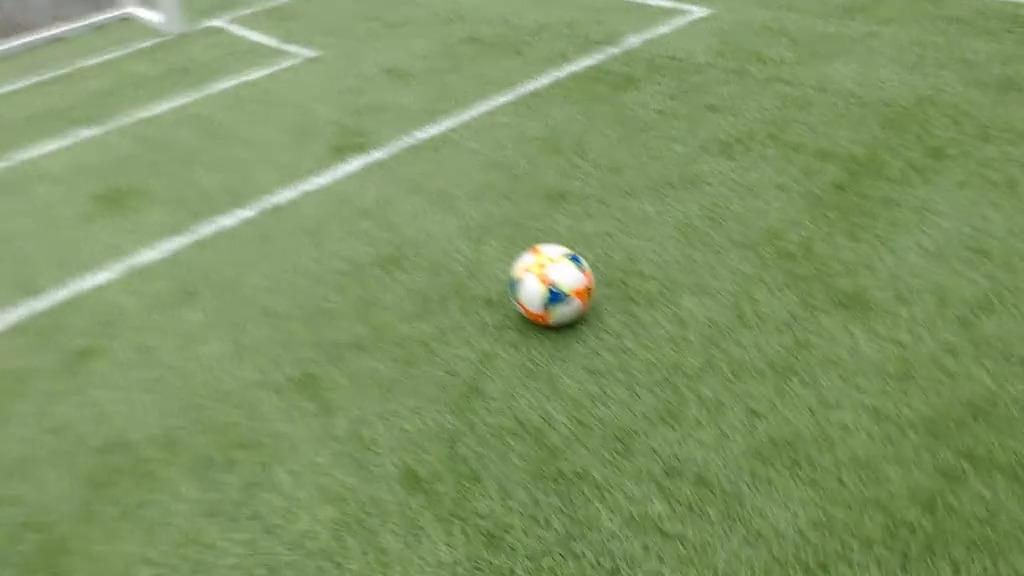ball: (511, 243, 593, 328)
